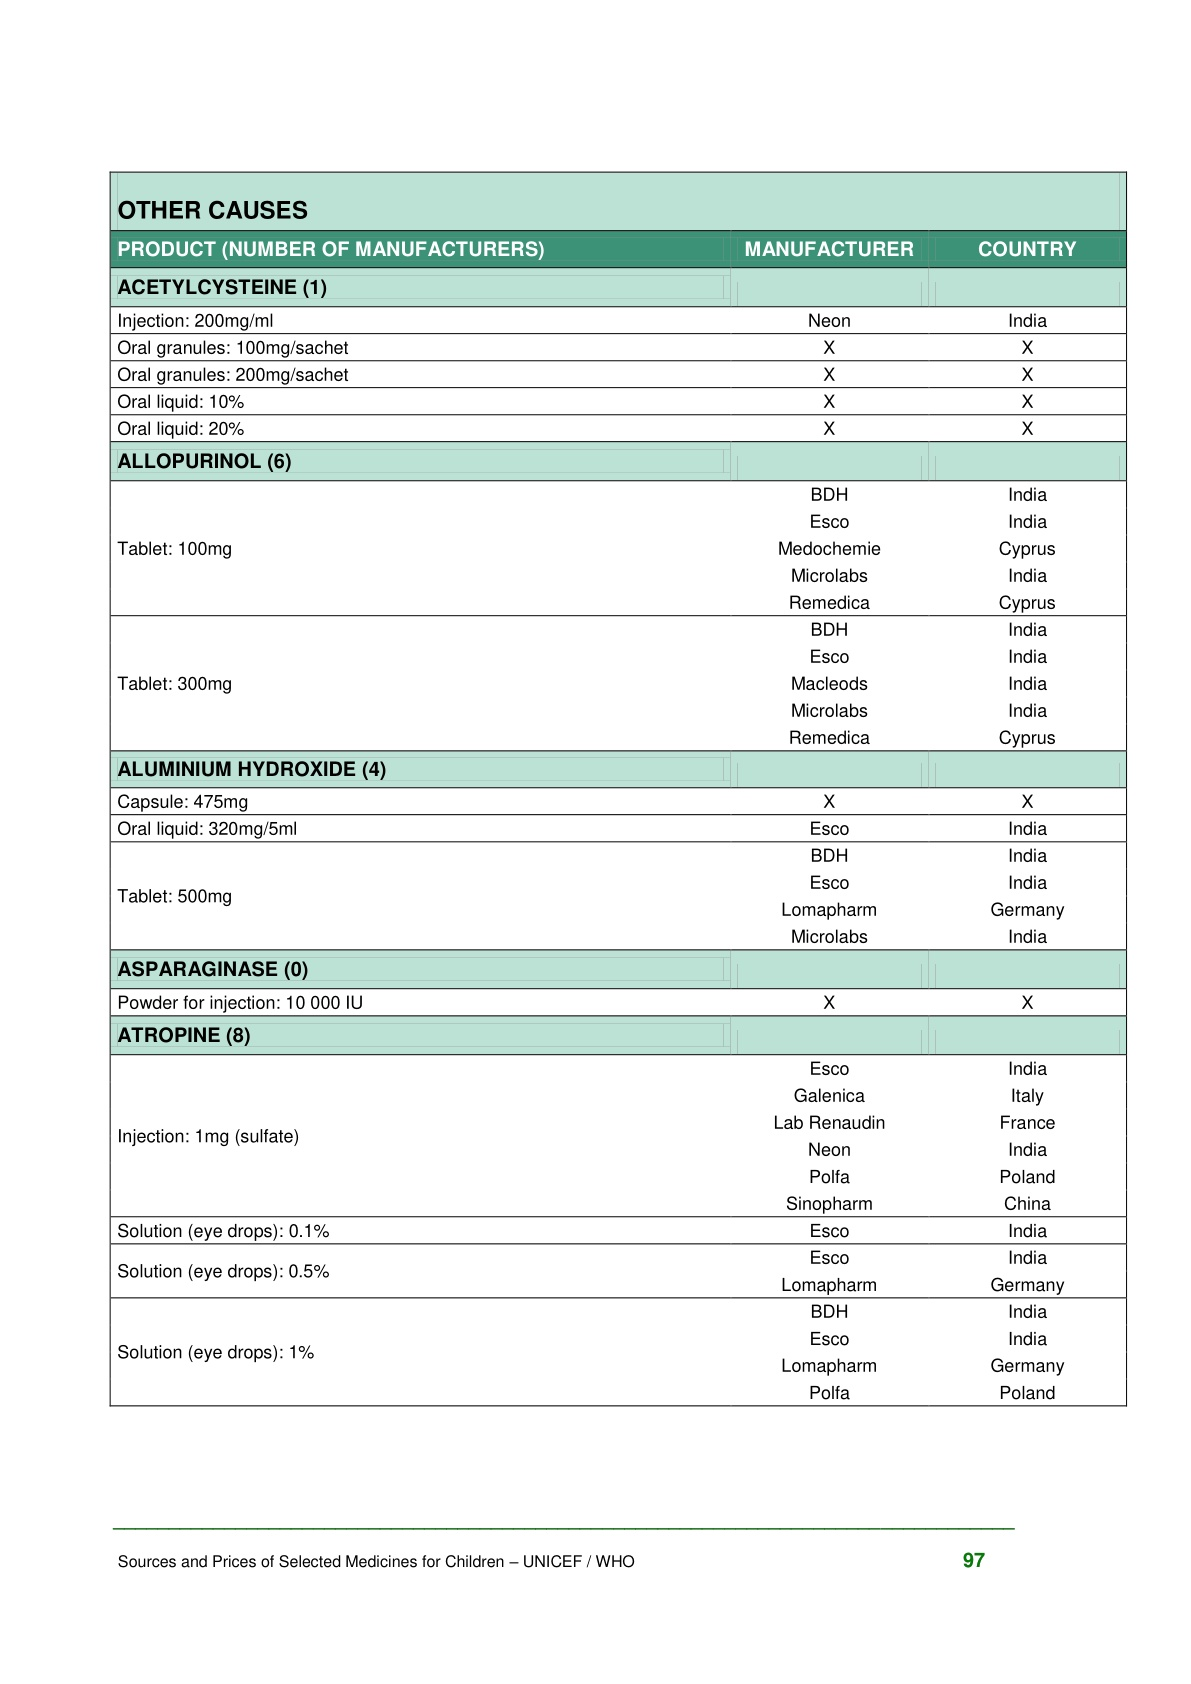partial_lined_merged_cells: (110, 169, 1128, 1408)
